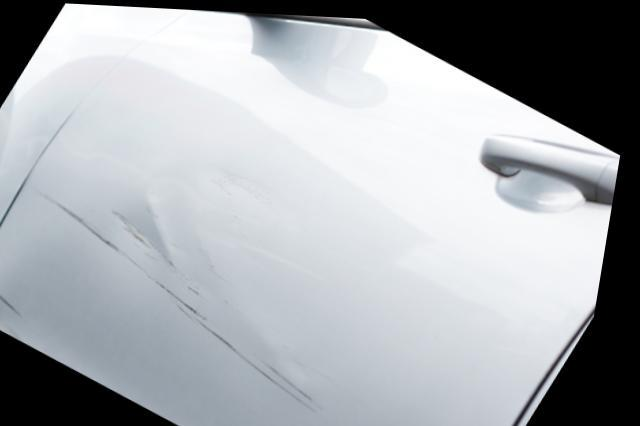scratch: (54, 192, 351, 421), (0, 282, 77, 363)
